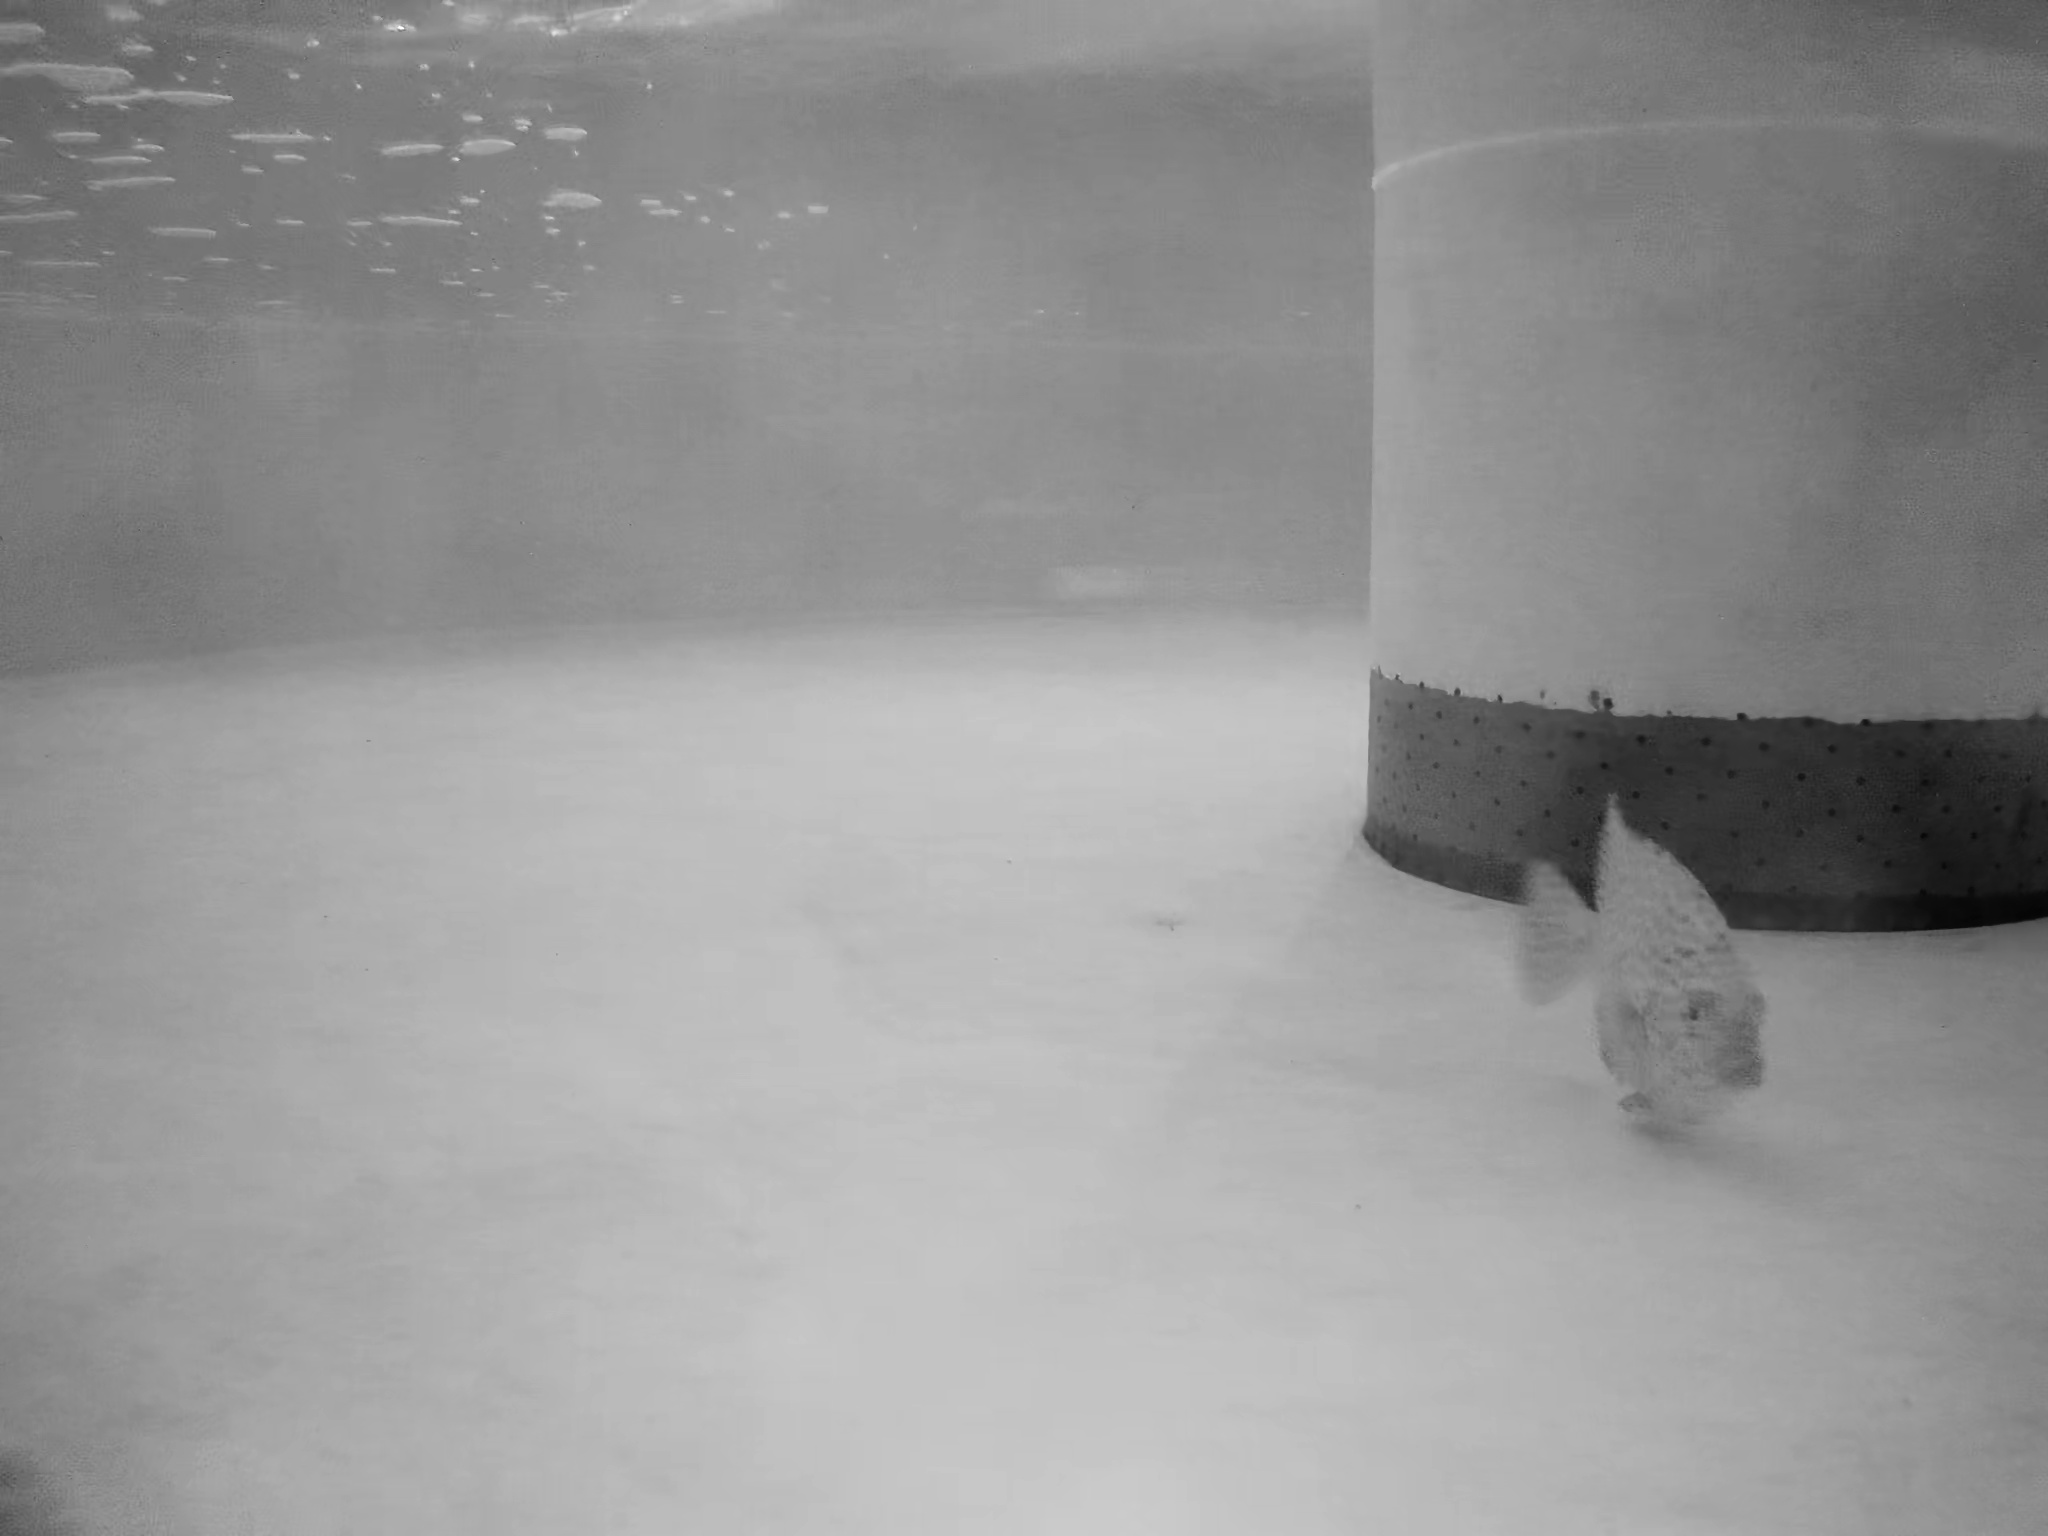fish: (1513, 792, 1777, 1139)
